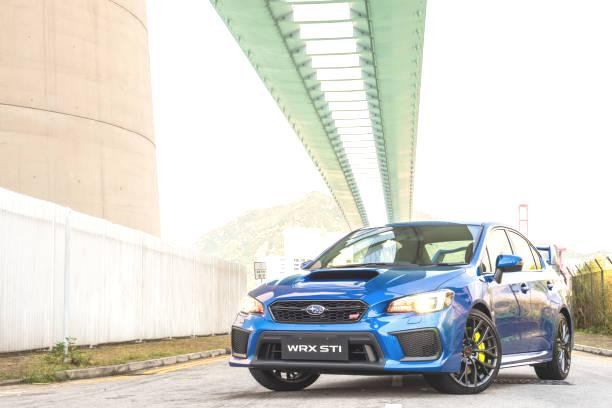subaru: (301, 300, 332, 320)
